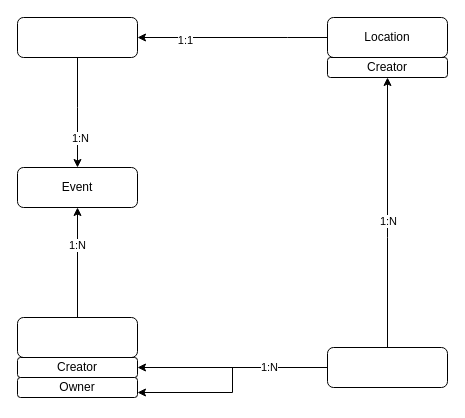
Image size: 465x418. Some labels were removed from this diagram. Here are the shapes that lost their labels. From the top down, the box of each, then its label:
(16, 16, 138, 58): API - CEP
(16, 316, 138, 358): Atração
(326, 346, 448, 388): User
